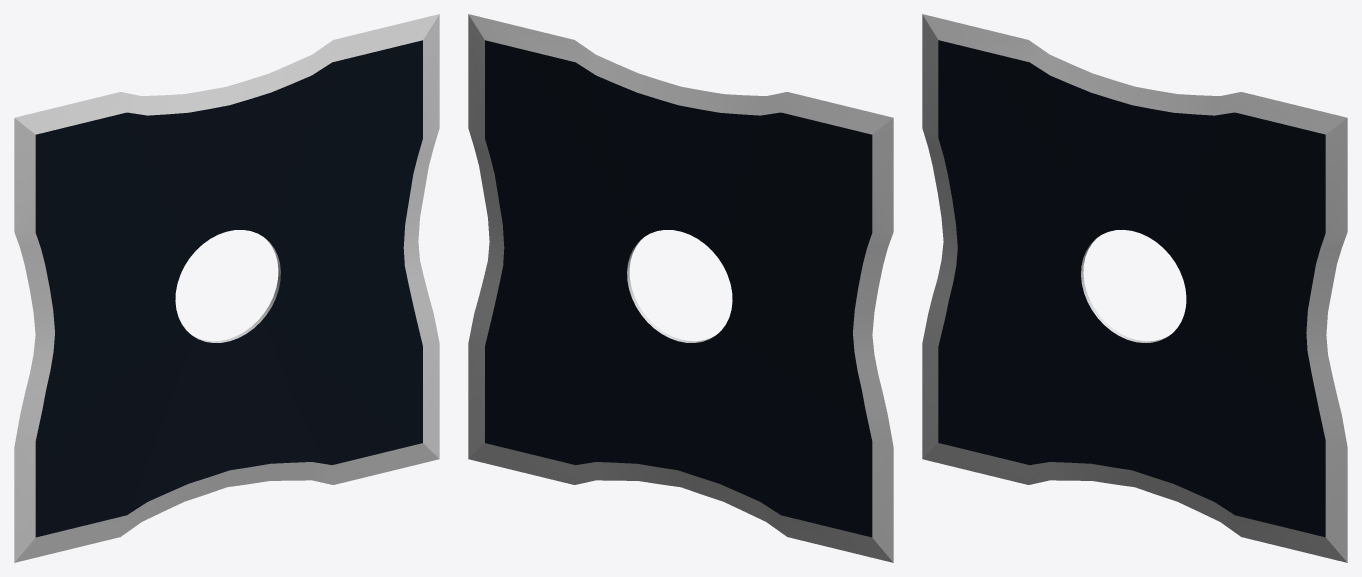
File: Shuriken_3.fbx
The picture shows the model from 3 angles, left to right: view 1: azimuth 30°, elevation 25°; view 2: azimuth 150°, elevation 25°; view 3: azimuth 330°, elevation 25°; orthographic projection.
Parts seen in each view (by area): view 1: Shuriken_3; view 2: Shuriken_3; view 3: Shuriken_3.
Part boxes in pixels (x1,y1,x2,y2): Shuriken_3: (14, 14, 439, 562); Shuriken_3: (468, 14, 893, 562); Shuriken_3: (922, 14, 1347, 562).
Size of the model in its own units: 2.2 by 2.2 by 0.0474.
